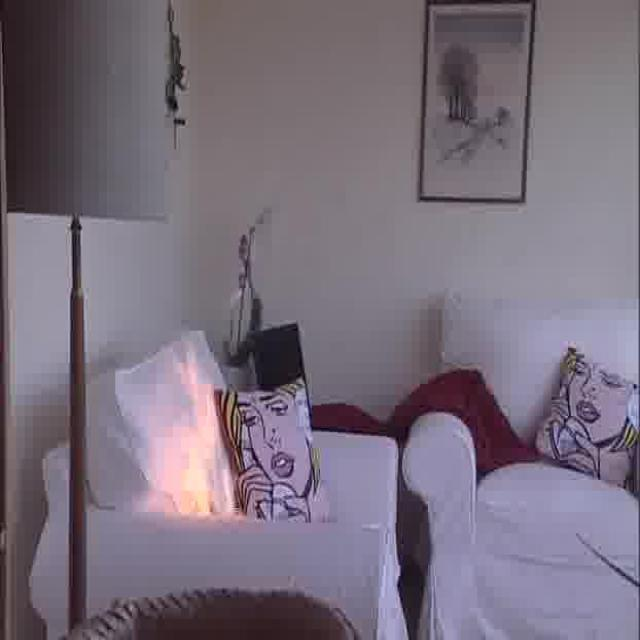Fire: (180, 378, 228, 516)
